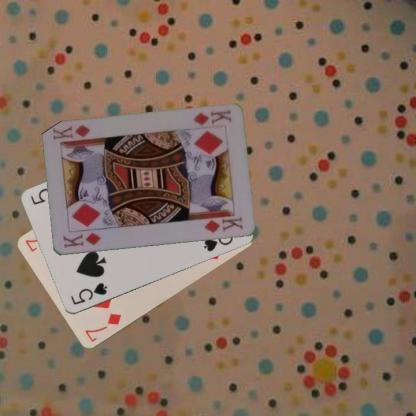5s: (68, 280, 108, 306)
7d: (82, 311, 123, 344)
Kd: (191, 107, 233, 128), (61, 230, 102, 250)
